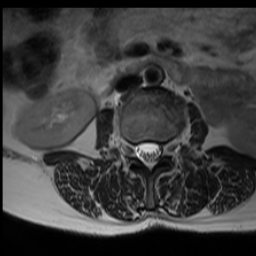CCS_normal: (143, 135, 154, 175)
LFS_normal: (162, 137, 170, 160)
LLS_normal: (153, 136, 161, 166)
RFS_normal: (126, 135, 135, 163)
RLS_normal: (134, 136, 145, 165)
